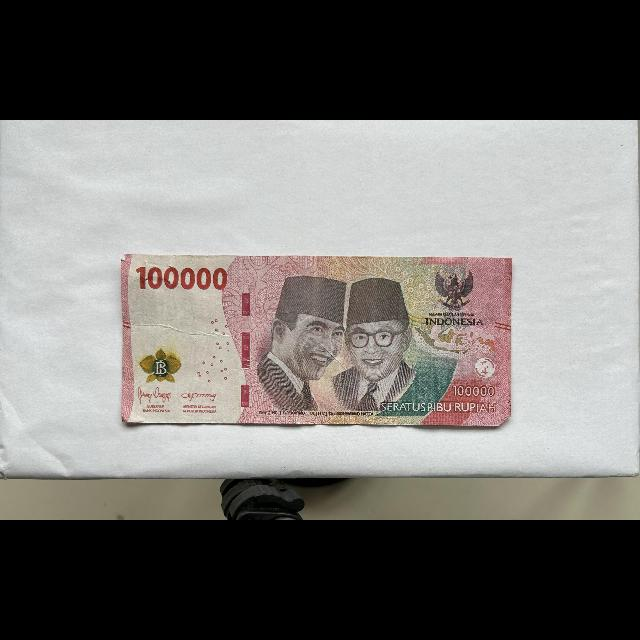Palsu-100k: (120, 252, 515, 429)
Tinta-Palsu-100k: (138, 349, 182, 384)
